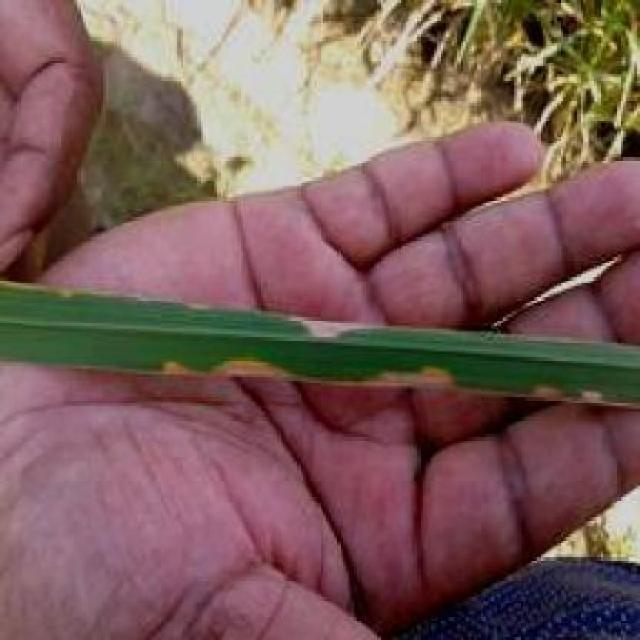Brown_Spot: (0, 258, 425, 350), (143, 345, 640, 423)
